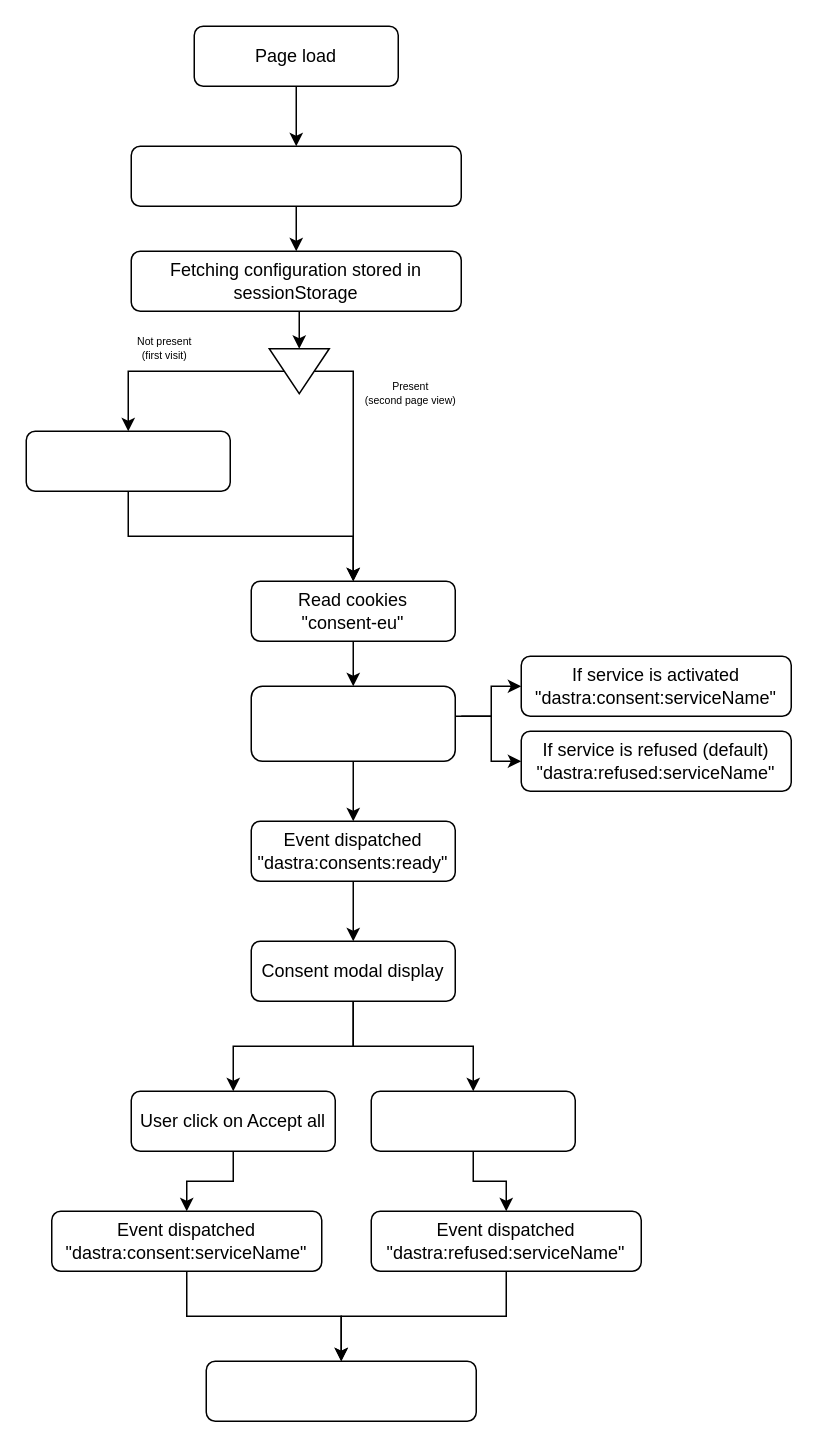
The diagram is 818 pixels wide and 1448 high, and some of its shapes have lost their labels. The centre of each missing label's shape, as x and y in pixels:
Cookie "consent-eu" is saved with user preferences: (340,1390)
Dastra javascript SDK loading (async): (295,175)
Dispatch consents events (on window + dataLayer): (352,723)
Fetching configuration from api.dastra.eu: (127,460)
User click on Refuse all: (472,1120)
